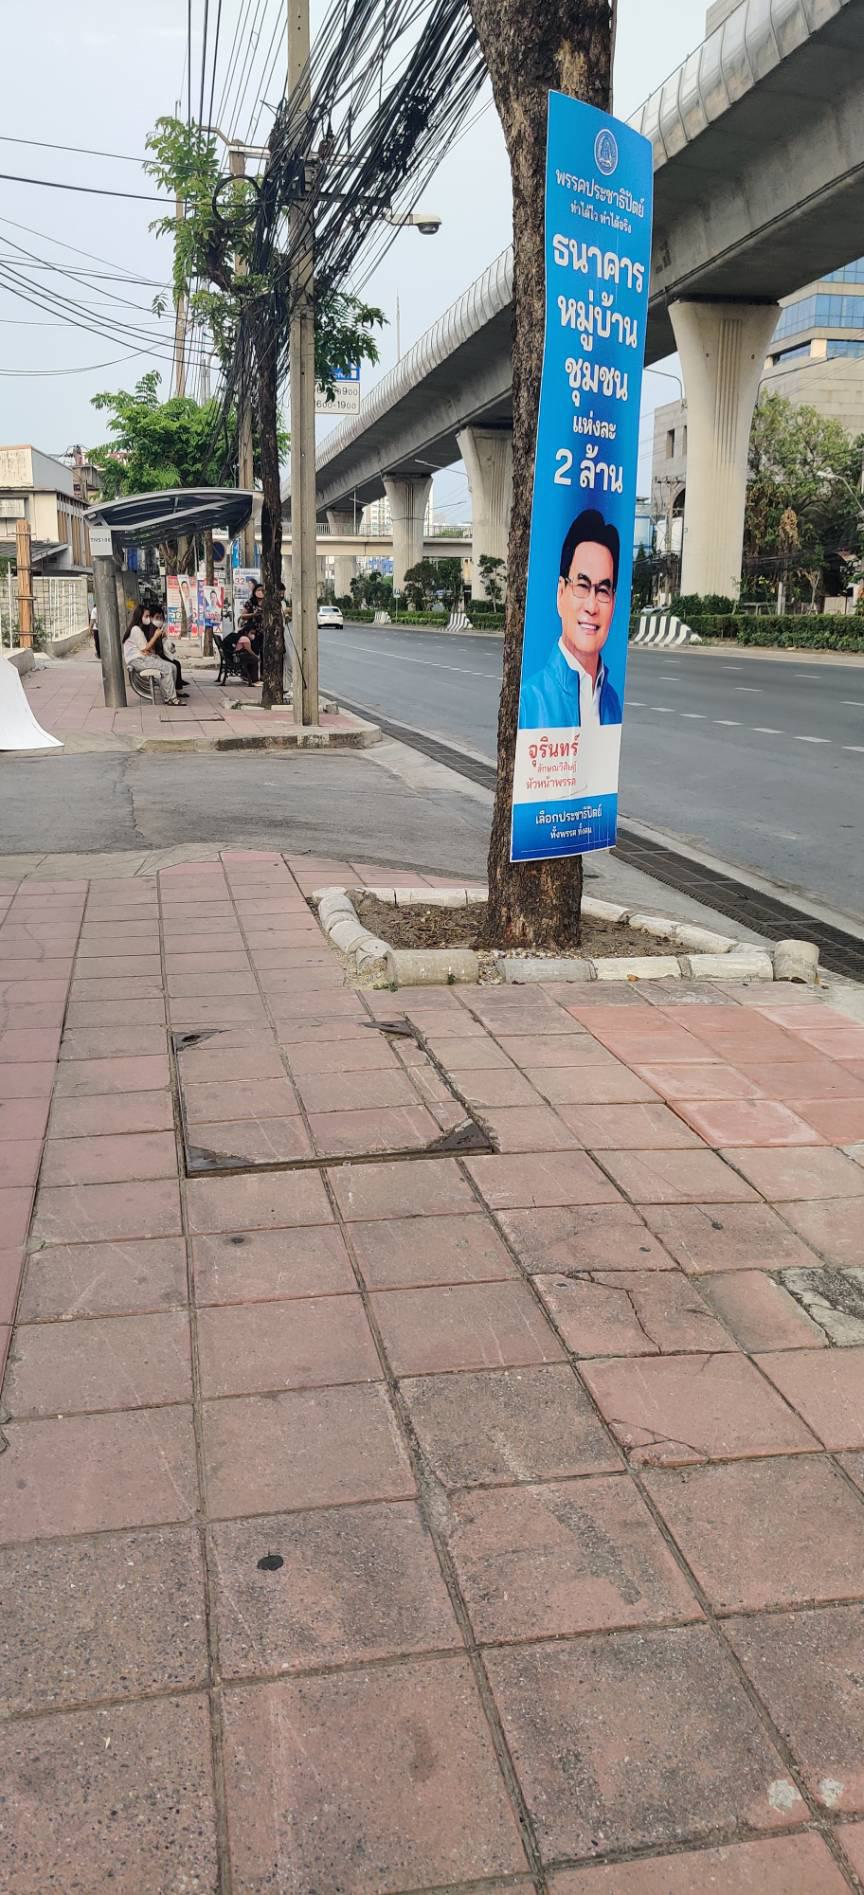Banner: (474, 86, 657, 862)
